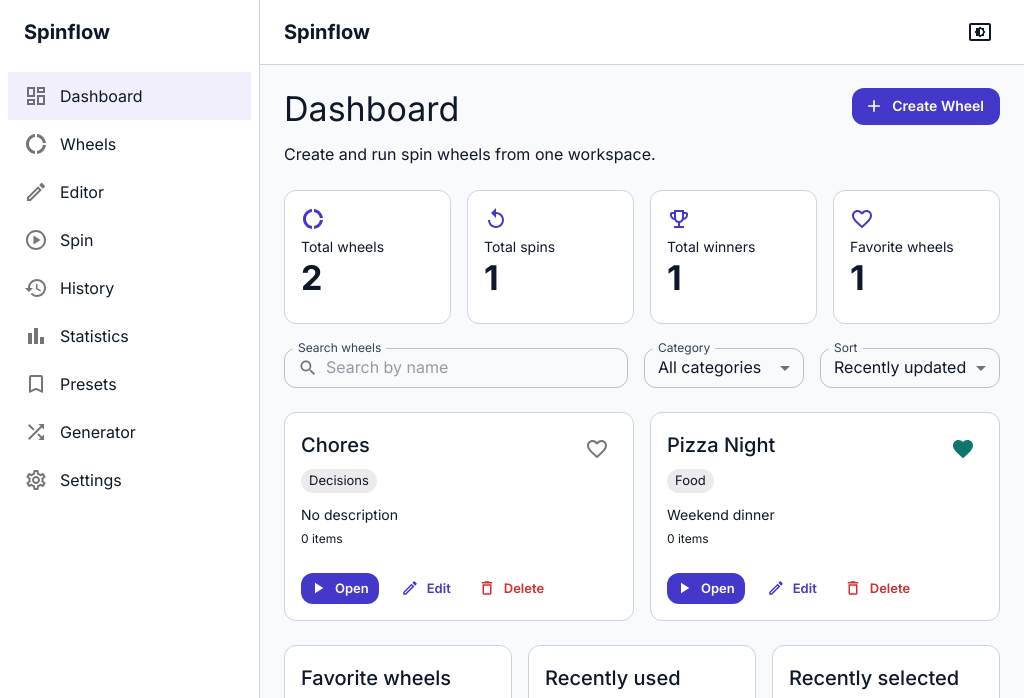
Test: DashboardScreen › cancels a pending delete
Click the button with aria-label "Delete Chores": (512, 588) [475, 573, 549, 604]
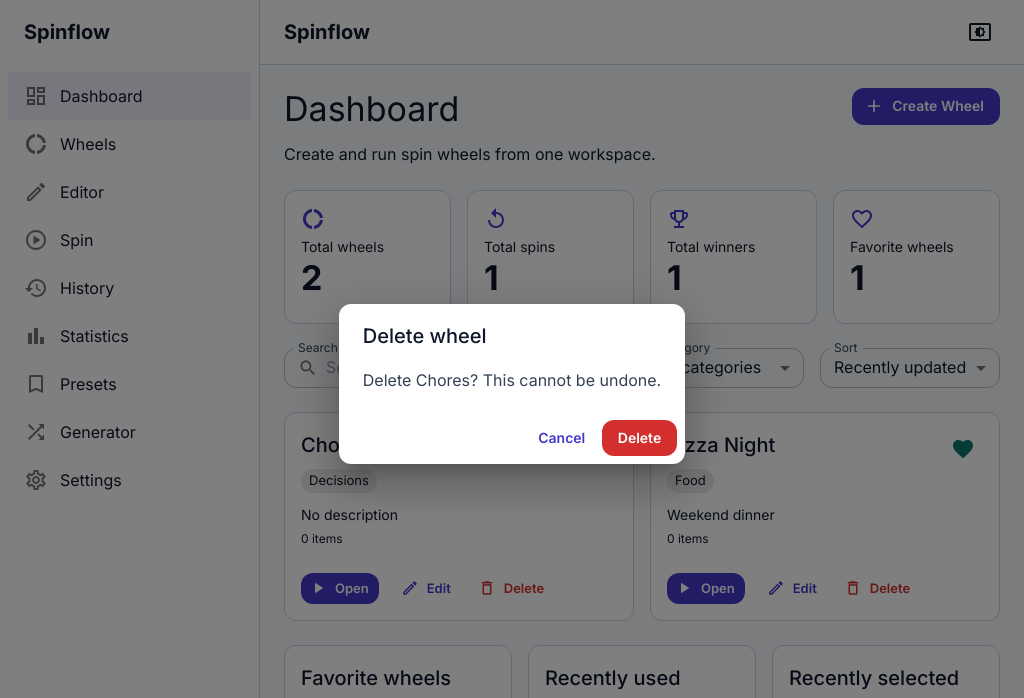
Click the button "Cancel": (562, 438) [530, 420, 594, 456]
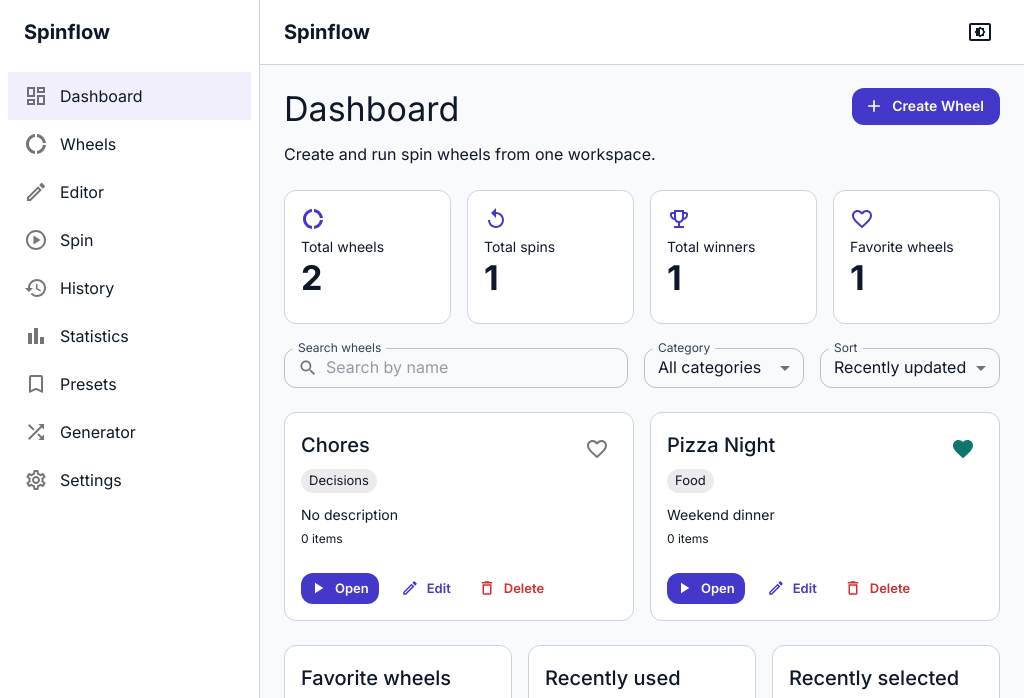
Expected: the heading "Delete wheel" is gone
